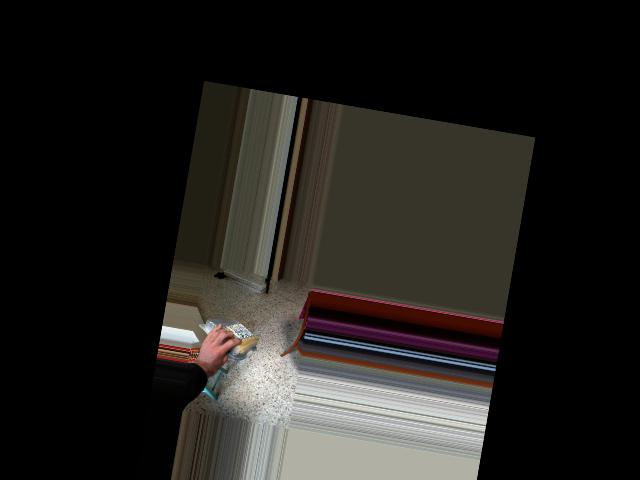cheese: (200, 316, 266, 355)
